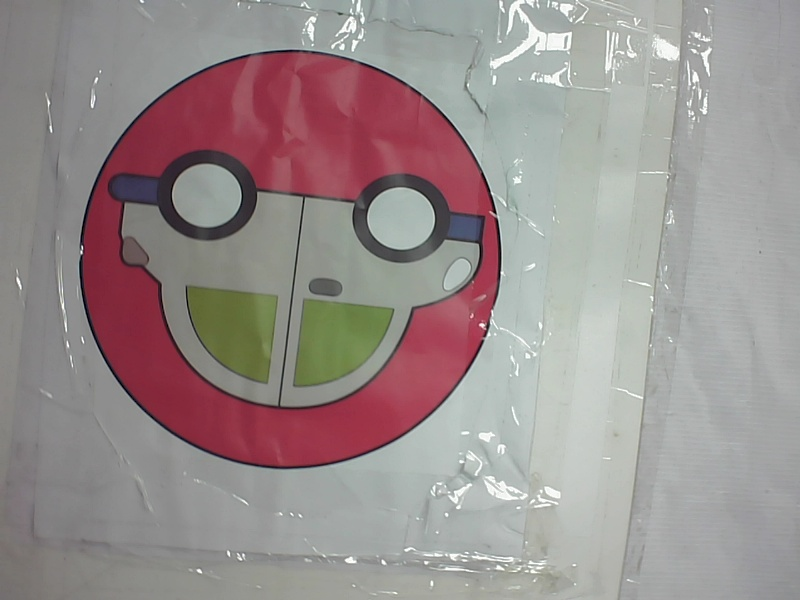areaC: (65, 40, 517, 481)
